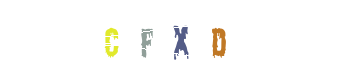C: (87, 0, 167, 80)
D: (178, 0, 258, 80)
F: (127, 0, 207, 80)
X: (135, 0, 215, 80)
